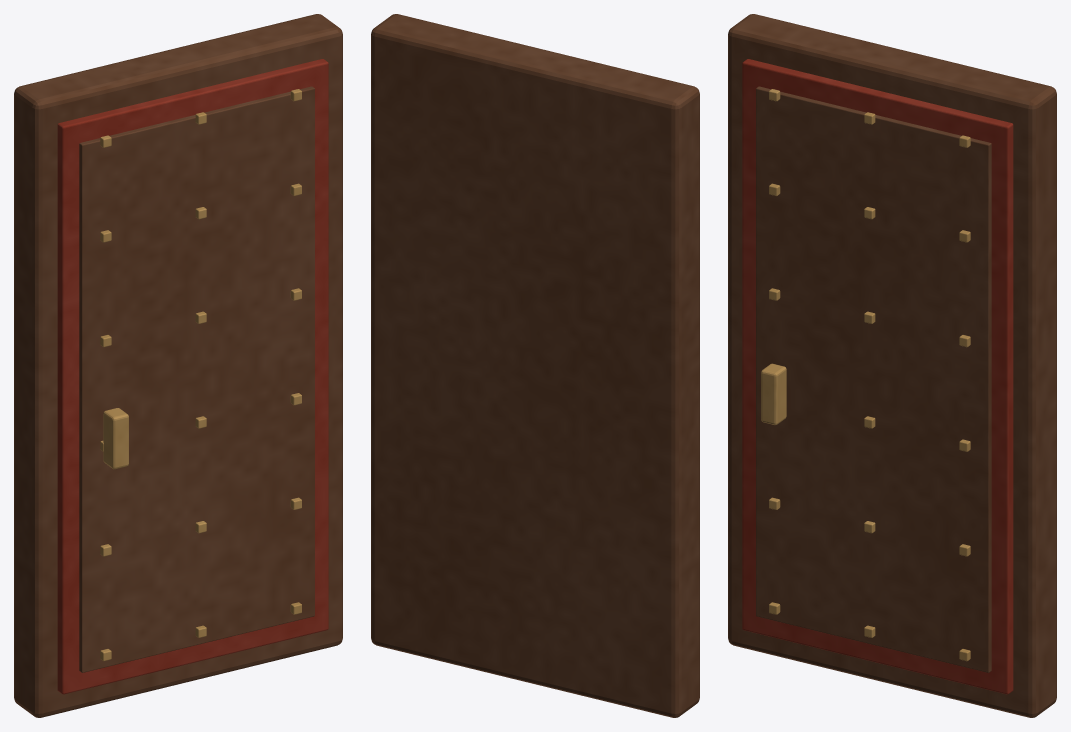
The model's file is mountain-gate-right.glb.
The picture shows the model from 3 angles, left to right: view 1: azimuth 30°, elevation 25°; view 2: azimuth 150°, elevation 25°; view 3: azimuth 330°, elevation 25°; orthographic projection.
Parts seen in each view (by area): view 1: DoorRight; view 2: DoorRight; view 3: DoorRight.
Part boxes in pixels (x1,y1,x2,y2): DoorRight: [14, 14, 342, 717]; DoorRight: [371, 14, 699, 717]; DoorRight: [728, 14, 1056, 717].
Size of the model in its own units: 1.3 by 2.48 by 0.335.
3 materials, 3 textured.
